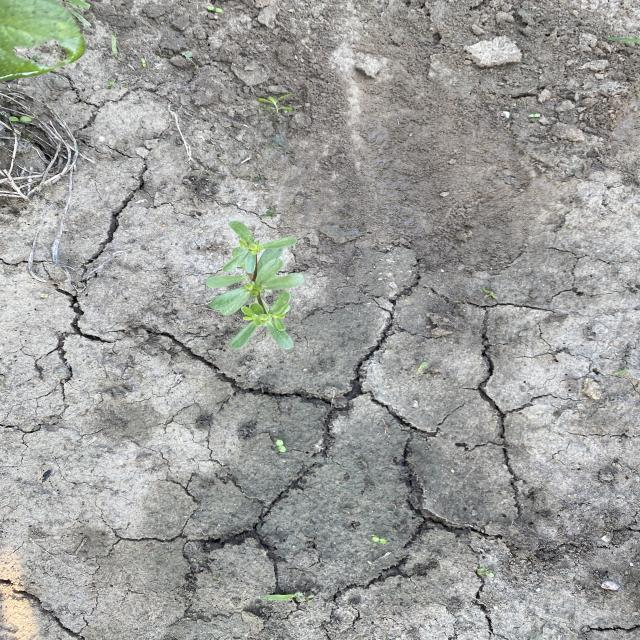Purslane: (203, 220, 307, 353)
